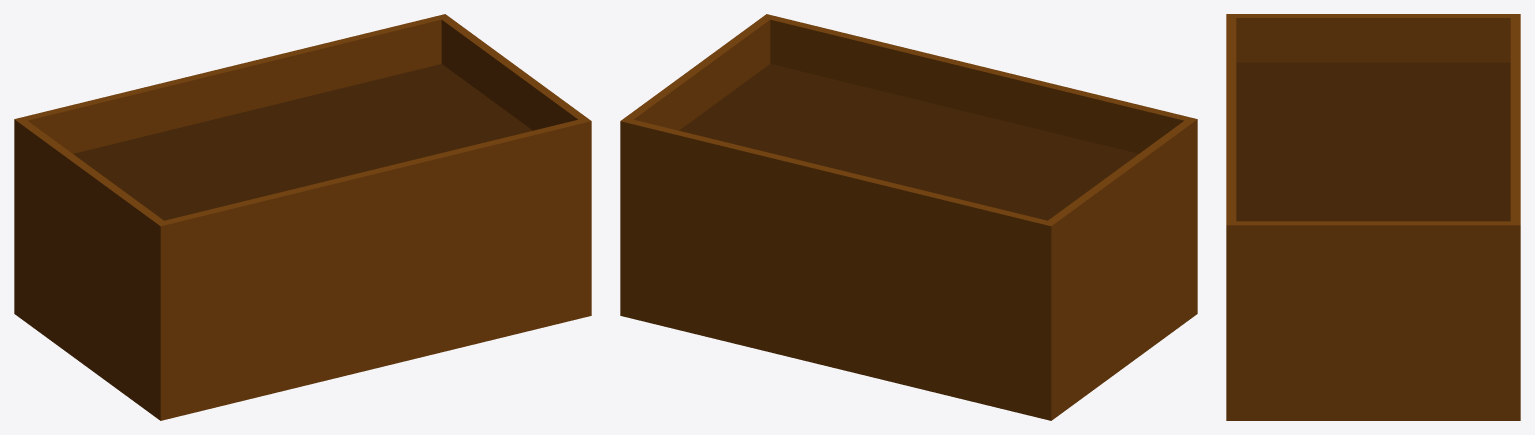
The model's file is flower pot wood.obj.
3 renders of one model, left to right at view 1: azimuth 30°, elevation 25°; view 2: azimuth 150°, elevation 25°; view 3: azimuth 270°, elevation 25°, orthographic.
Visible parts, largest first — view 1: flower pot wood; view 2: flower pot wood; view 3: flower pot wood.
Part boxes in pixels (left/top/right/bottom): flower pot wood: left=14, top=14, right=591, bottom=420; flower pot wood: left=620, top=14, right=1197, bottom=420; flower pot wood: left=1226, top=14, right=1520, bottom=420.
Size of the model in its own units: 51 by 22 by 30.
Materials: 1 (1 with a texture image).
